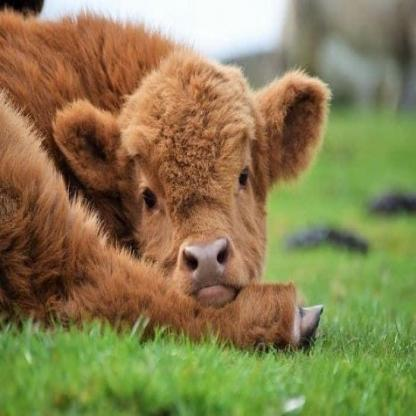cow: (0, 15, 330, 350)
